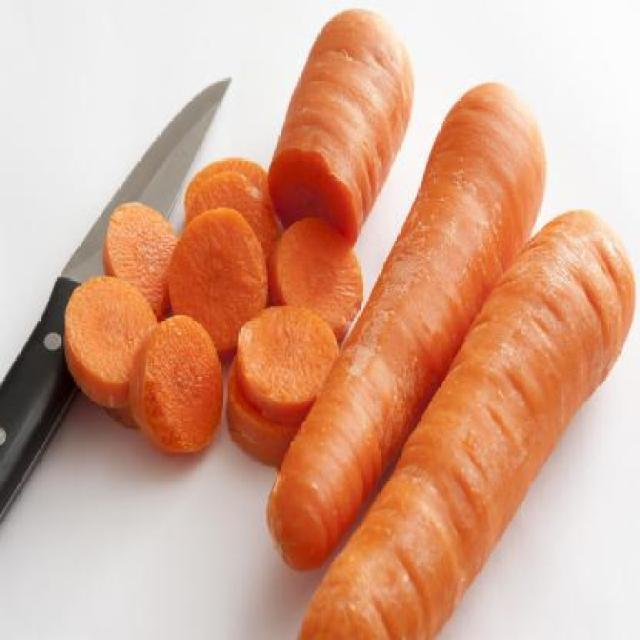carrot: (287, 207, 640, 639), (268, 74, 552, 571), (269, 8, 417, 240)
